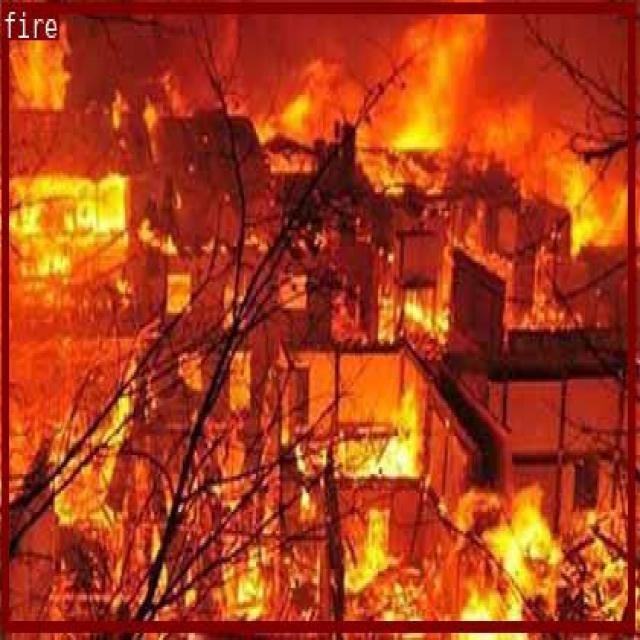fire: (1, 1, 634, 630)
